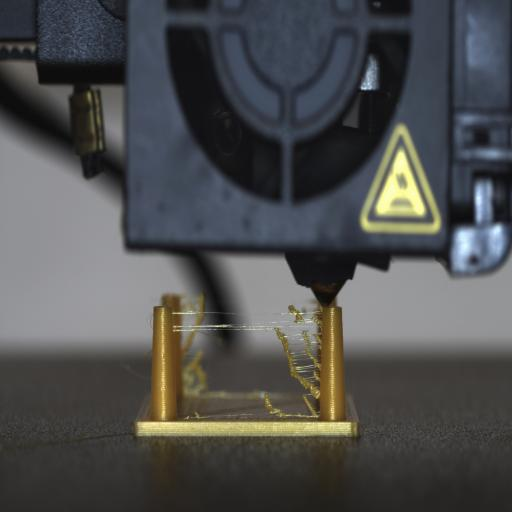stringing: (172, 307, 322, 423)
